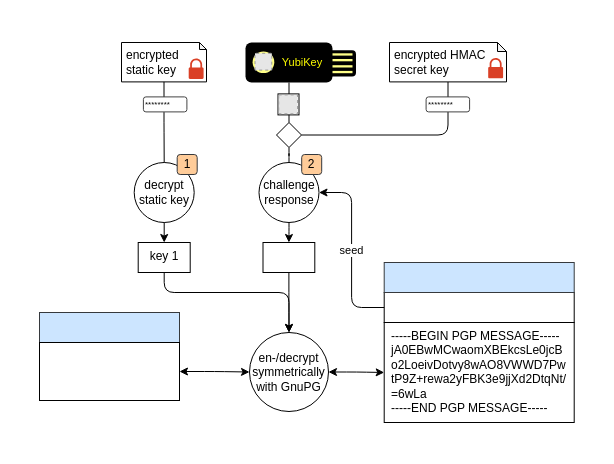
Some shapes in this 614 by 464 pixel diagram are drawn without their labels. Grey dashed boxes stand in for pictures. The centre of each missing label's shape, as x and y in pixels:
"5c8e82b7402c93c53a5d556b1..." goes at (x=478, y=307).
"Encrypted file" goes at (x=478, y=277).
"key 2" goes at (x=288, y=257).
"or" goes at (x=289, y=135).
"Plain text" goes at (x=109, y=327).
"Secret sandwich recipe - bread - vegemite" goes at (x=109, y=371).
